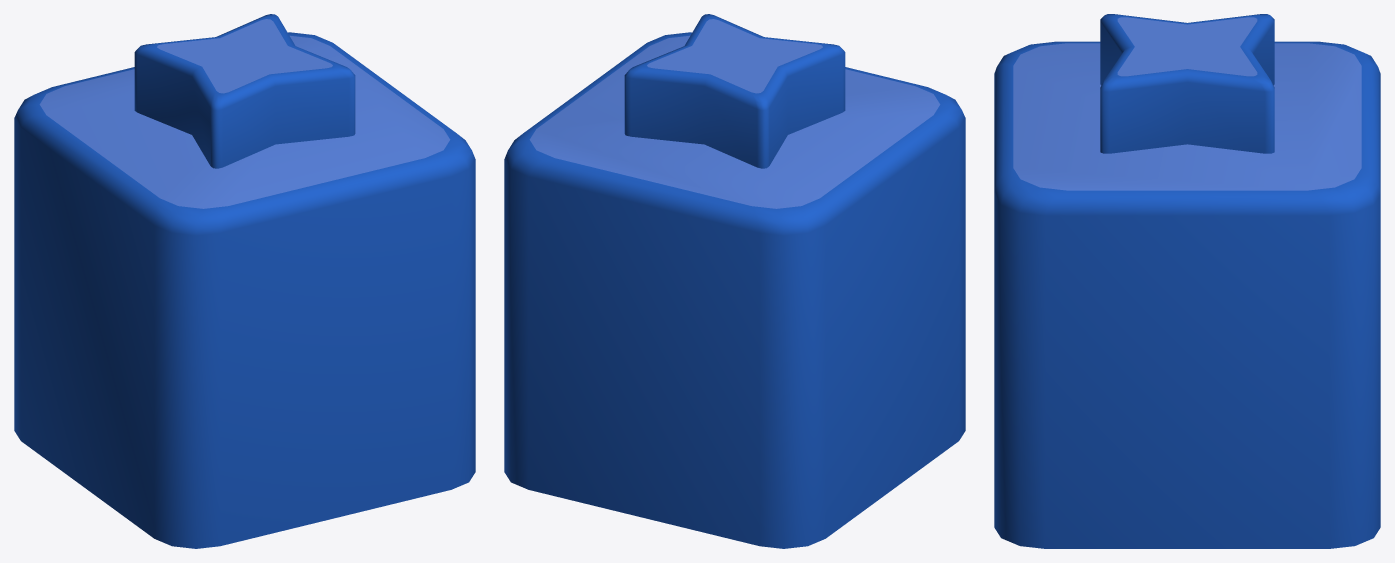
The model's file is block_star4.fbx.
3 renders of one model, left to right at view 1: azimuth 30°, elevation 25°; view 2: azimuth 150°, elevation 25°; view 3: azimuth 270°, elevation 25°, orthographic. The views are drawn at different scales.
Parts seen in each view (by area): view 1: block_star4; view 2: block_star4; view 3: block_star4.
Part boxes in pixels (box(x1,y1,x2,y2)): block_star4: box(14, 14, 475, 548); block_star4: box(504, 14, 965, 548); block_star4: box(994, 14, 1380, 548).
Bounding box in the file's own units: 100 × 100 × 120.
